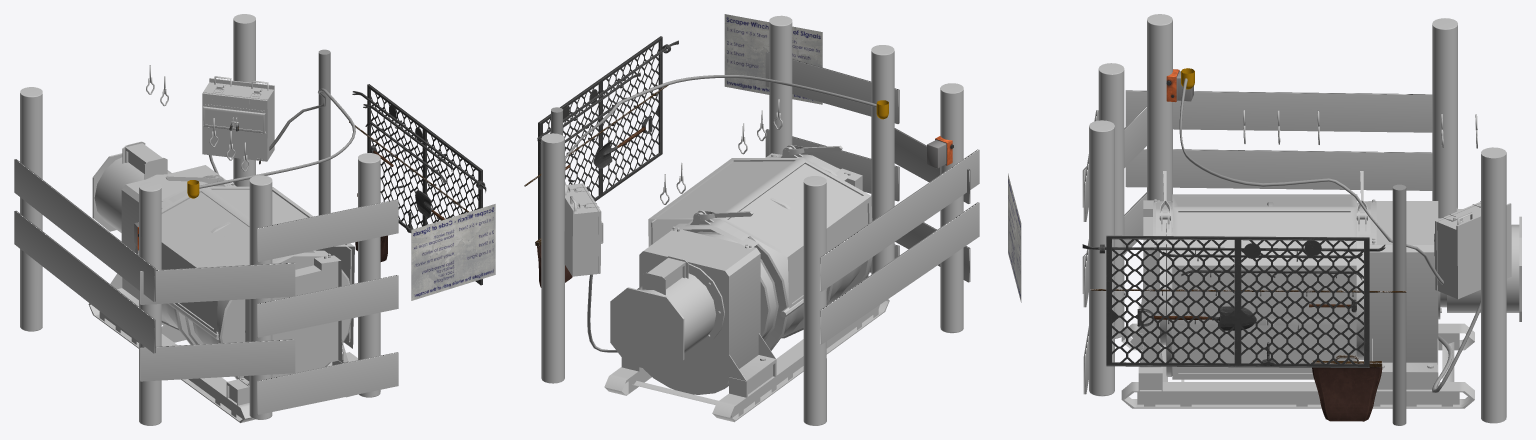
The model's file is Center winch power box on stick.fbx.
3 views of the same model, side by side, from view 1: azimuth 30°, elevation 25°; view 2: azimuth 150°, elevation 25°; view 3: azimuth 270°, elevation 25° (orthographic). The views are drawn at different scales.
Parts seen in each view (by area): view 1: Winch, Winch_005, Tool_rack_001__1_, Code_of_signals, Power_Box_1, Wood_barricades_022, Wood_barricades_023, Wood_barricades_020.001, Wood_barricades_020, Wood_barricades_025, Wood_barricades_026, Wood_barricades_024 (+7 smaller); view 2: Winch, Winch_005, Tool_rack_001__1_, Cylinder_010, Wood_barricades_020.001, Wood_barricades_020, Wood_barricades_009, Code_of_signals, Wood_barricades_018, Wood_barricades_017, Power_Box_1, Wood_barricades_019 (+6 smaller); view 3: Winch, Winch_005, Tool_rack_001__1_, Wood_barricades_020, Wood_barricades_020.001, Cylinder_010, Wood_barricades_019, Wood_barricades_009, Wood_barricades_017, Power_Box_1, Cylinder, Wood_barricades_018 (+6 smaller).
Boxes of the visible parts, left/top/right/bottom form: Winch: left=88, top=141, right=357, bottom=422; Winch_005: left=135, top=186, right=354, bottom=348; Tool_rack_001__1_: left=349, top=84, right=486, bottom=285; Code_of_signals: left=411, top=204, right=495, bottom=300; Power_Box_1: left=202, top=76, right=274, bottom=161; Wood_barricades_022: left=140, top=339, right=295, bottom=381; Wood_barricades_023: left=140, top=262, right=295, bottom=304; Wood_barricades_020.001: left=14, top=210, right=155, bottom=353; Wood_barricades_020: left=14, top=159, right=155, bottom=301; Wood_barricades_025: left=257, top=352, right=398, bottom=414; Wood_barricades_026: left=257, top=199, right=398, bottom=261; Wood_barricades_024: left=257, top=275, right=398, bottom=337; Winch: left=604, top=145, right=889, bottom=422; Winch_005: left=648, top=158, right=872, bottom=308; Tool_rack_001__1_: left=524, top=36, right=678, bottom=287; Cylinder_010: left=541, top=133, right=564, bottom=383; Wood_barricades_020.001: left=819, top=202, right=979, bottom=344; Wood_barricades_020: left=819, top=149, right=979, bottom=291; Wood_barricades_009: left=803, top=176, right=826, bottom=425; Code_of_signals: left=724, top=14, right=822, bottom=104; Wood_barricades_018: left=871, top=45, right=894, bottom=274; Wood_barricades_017: left=940, top=83, right=963, bottom=333; Power_Box_1: left=564, top=183, right=603, bottom=276; Wood_barricades_019: left=769, top=15, right=792, bottom=154; Winch: left=1121, top=171, right=1521, bottom=408; Winch_005: left=1172, top=194, right=1357, bottom=379; Tool_rack_001__1_: left=1082, top=235, right=1406, bottom=421; Wood_barricades_020: left=1125, top=90, right=1432, bottom=132; Wood_barricades_020.001: left=1125, top=149, right=1432, bottom=190; Cylinder_010: left=1481, top=147, right=1506, bottom=423; Wood_barricades_019: left=1089, top=120, right=1114, bottom=396; Wood_barricades_009: left=1432, top=18, right=1457, bottom=218; Wood_barricades_017: left=1147, top=14, right=1172, bottom=202; Power_Box_1: left=1434, top=201, right=1511, bottom=299; Cylinder: left=1392, top=184, right=1406, bottom=425; Wood_barricades_018: left=1098, top=63, right=1124, bottom=338.
Size of the model in its own units: 258 by 185 by 310.
